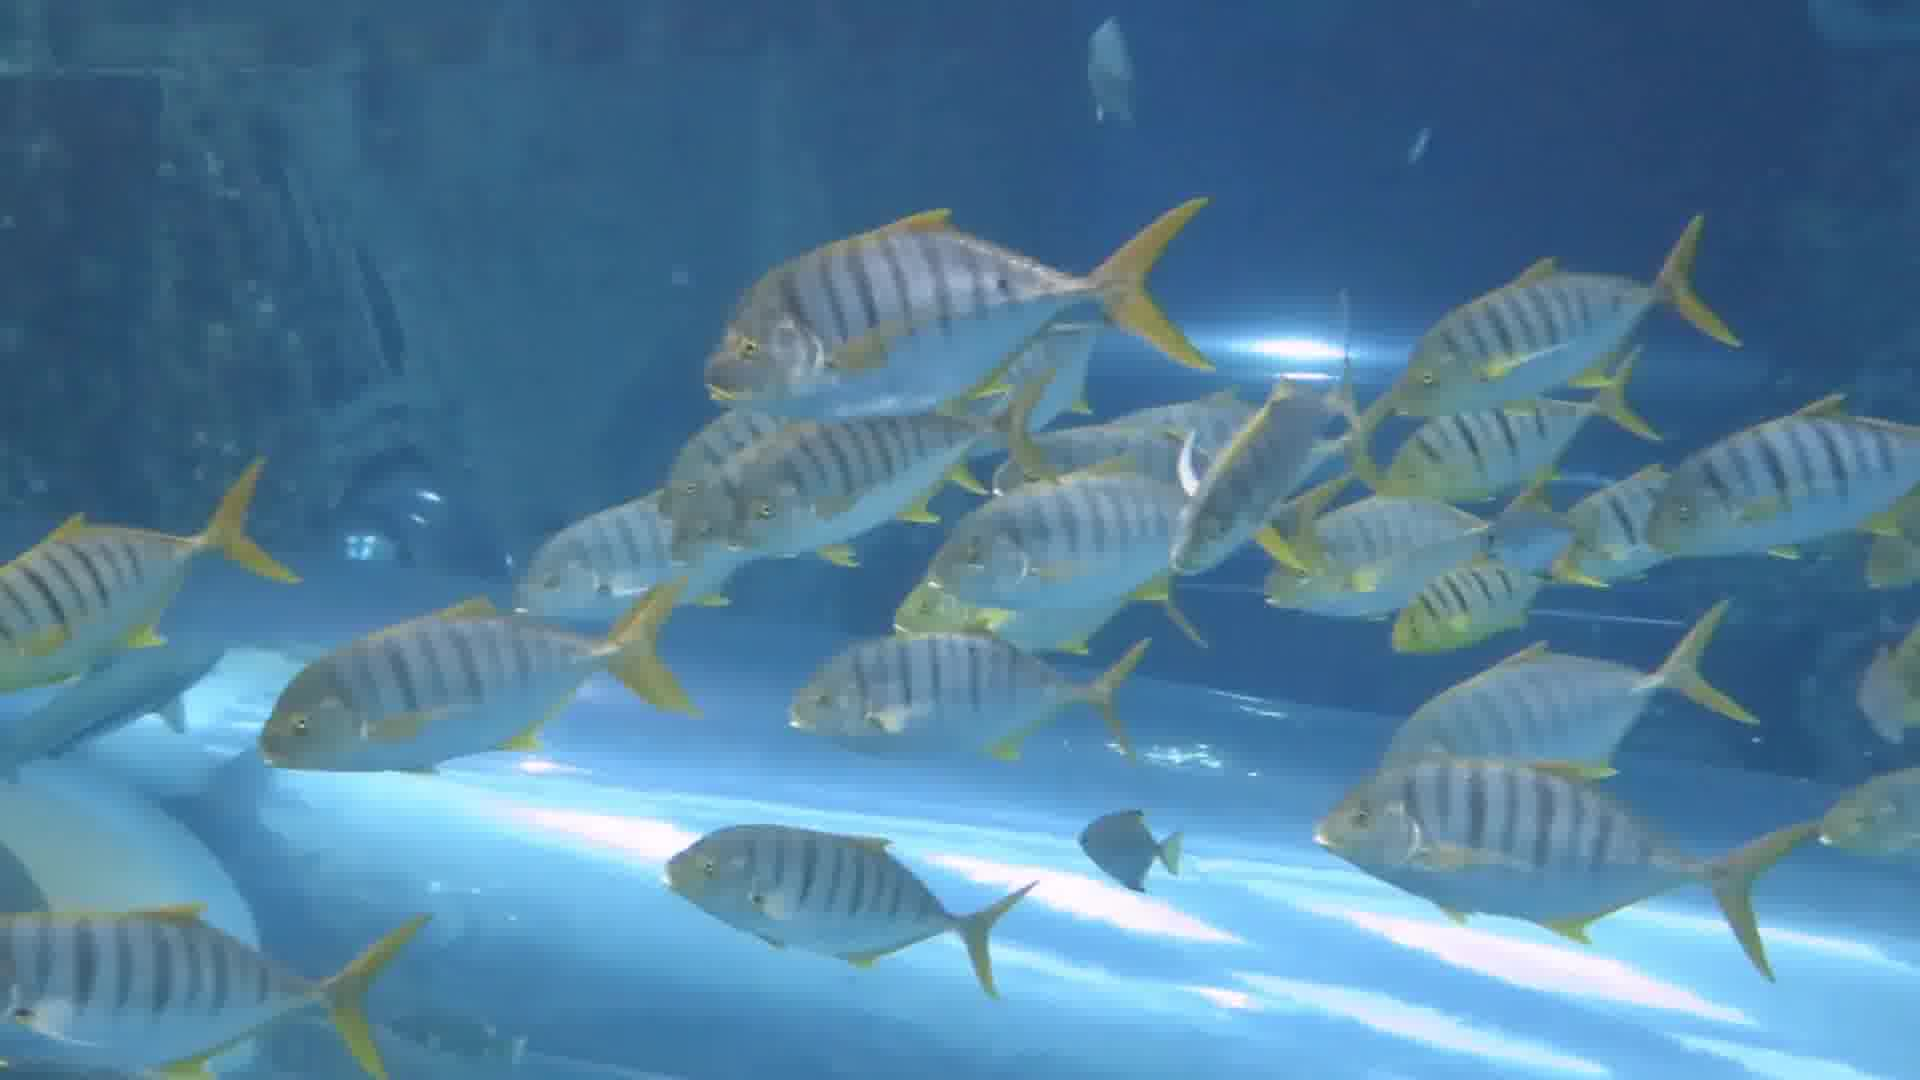Gnathanodon speciosus: (1320, 738, 1815, 969), (684, 208, 1193, 407), (258, 603, 670, 785), (645, 807, 1025, 984), (1398, 229, 1727, 417), (1622, 392, 1920, 572), (774, 645, 1185, 758), (711, 407, 978, 559), (1172, 355, 1341, 587), (924, 463, 1170, 597), (1371, 556, 1553, 650)
